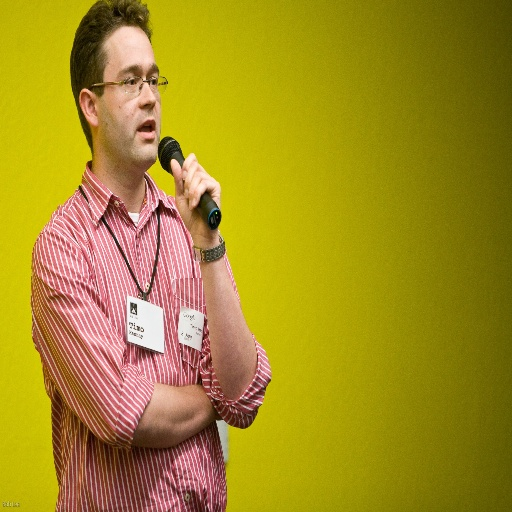hand: (162, 151, 220, 242)
